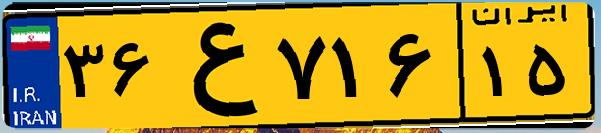1: (330, 28, 385, 110), (475, 38, 525, 113)
3: (57, 26, 110, 100)
5: (525, 38, 570, 115)
6: (385, 28, 445, 110), (110, 28, 158, 98)
7: (270, 28, 330, 110)
ع: (158, 12, 270, 120)
